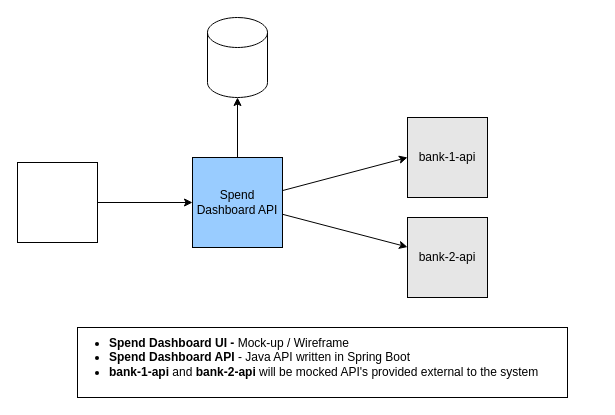
The diagram is 615 pixels wide and 415 high, and some of its shapes have lost their labels. The shapes that lost their labels are listed below. From the top down, each one's centre as x and y in pixels, then its label:
the point at 237,57: Spend Dashboard DB
the point at 57,202: Spend Dashboard UI
